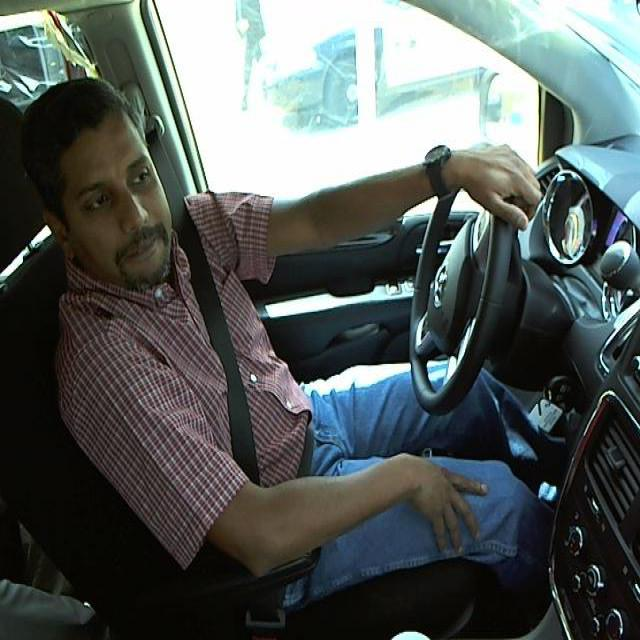seatbelt: (177, 224, 329, 484)
